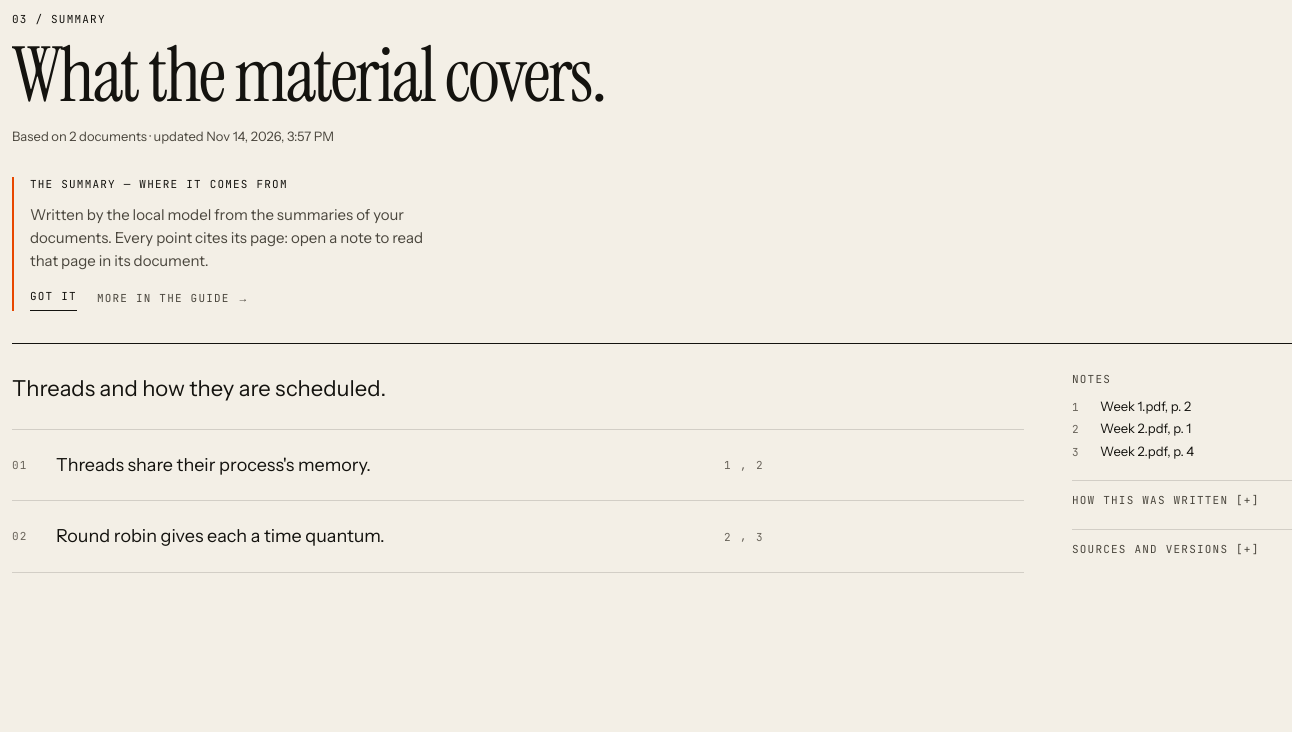
Test: EnvironmentSummary › opens a note's passage under its point, from the point or from the margin
Click the button named "Note 3, Week 2.pdf · p. 4". click: {"x": 760, "y": 537}
box: [748,525,772,549]
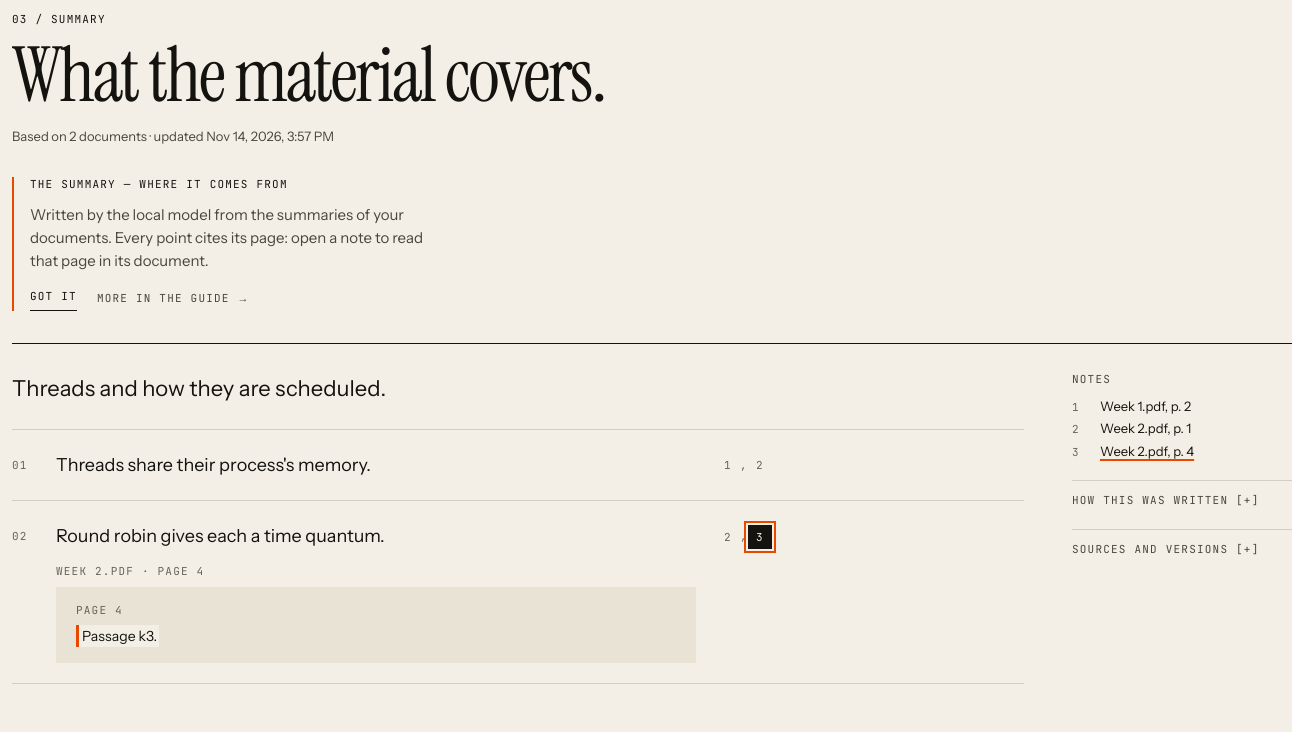
Result: the text "Passage k3." is shown at [76,625,159,647]
Result: the button named "Note 3, Week 2.pdf · p. 4" is expanded at [748,525,772,549]
From the margin: one passage open at a time.
Click the button "Week 1.pdf, p. 2". click: {"x": 1146, "y": 406}
box: [1100,397,1191,415]
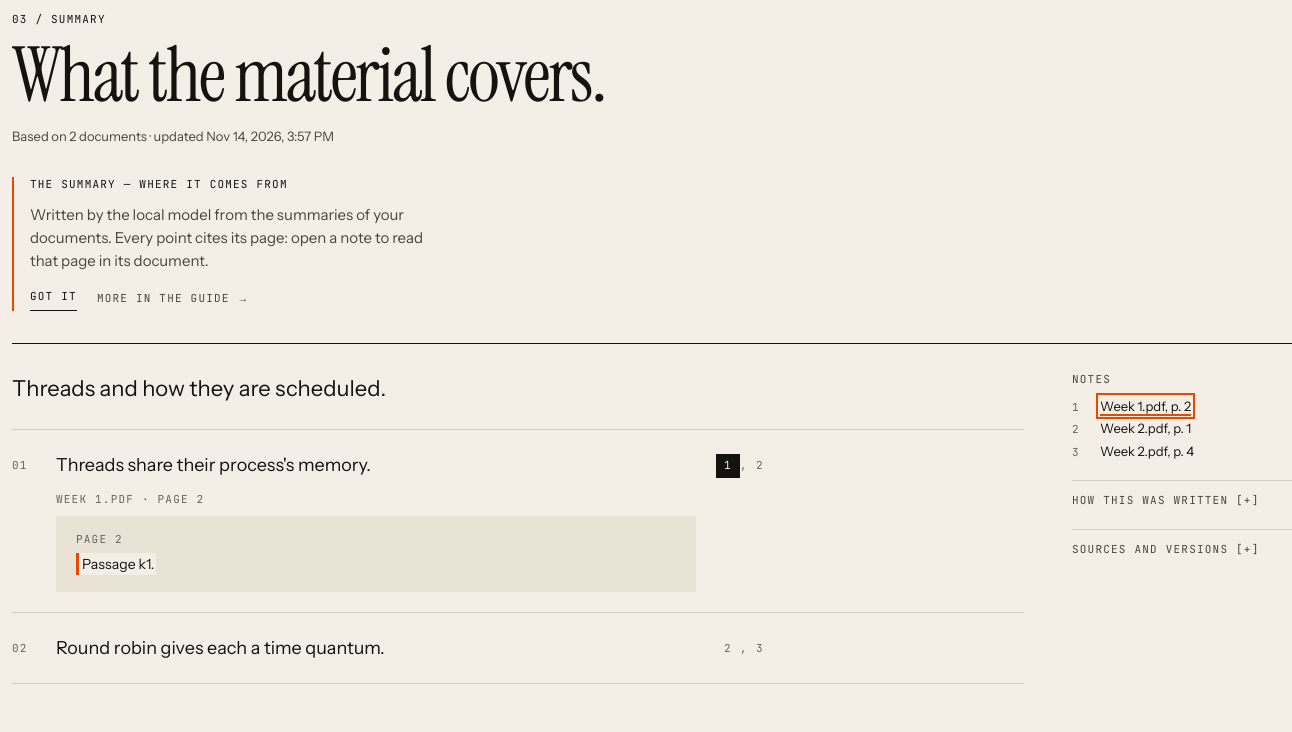
Result: the element named "Week 1.pdf, Page 2" is shown at [56,492,696,592]
